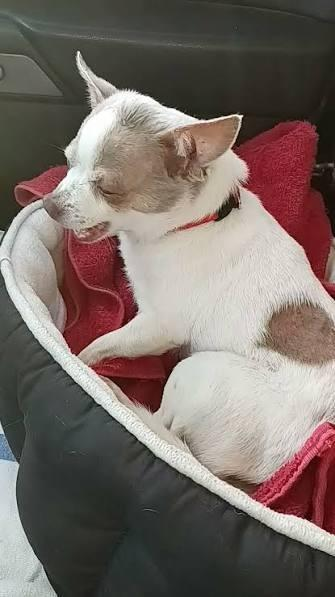adult_dog: (39, 50, 335, 490)
